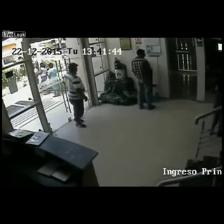person: (63, 63, 87, 127), (131, 49, 155, 109), (210, 112, 221, 136), (48, 63, 58, 79), (40, 63, 47, 82), (33, 64, 39, 83)
